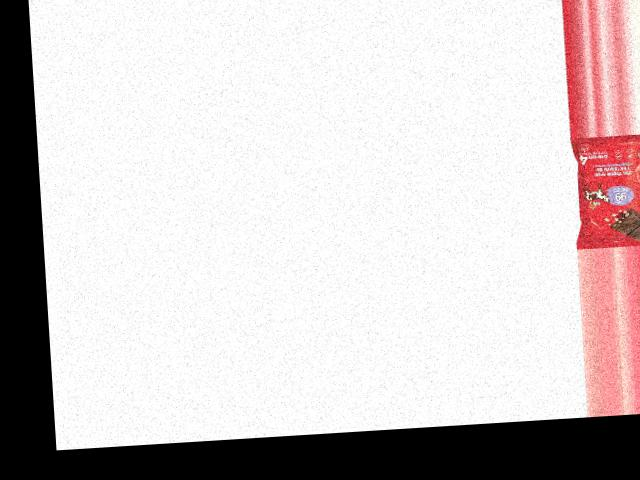chocolate: (573, 132, 640, 249)
